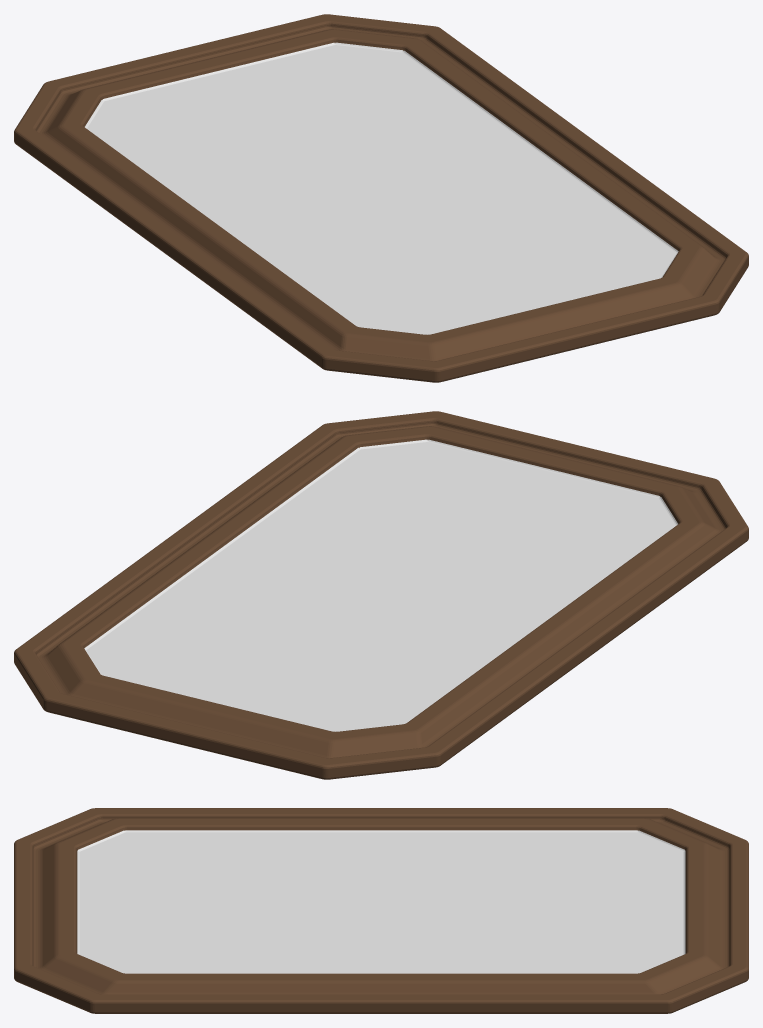
Rendered from Keycard.fbx.
3 renders of one model, top to bottom at view 1: azimuth 30°, elevation 25°; view 2: azimuth 150°, elevation 25°; view 3: azimuth 270°, elevation 25°, orthographic. The views are drawn at different scales.
Visible parts, largest first — view 1: Cube; view 2: Cube; view 3: Cube.
Boxes of the visible parts, x1,y1,x2,y2 form: Cube: (14, 14, 748, 382); Cube: (14, 411, 748, 779); Cube: (14, 808, 748, 1013).
Size of the model in its own units: 100 by 5.54 by 160.
